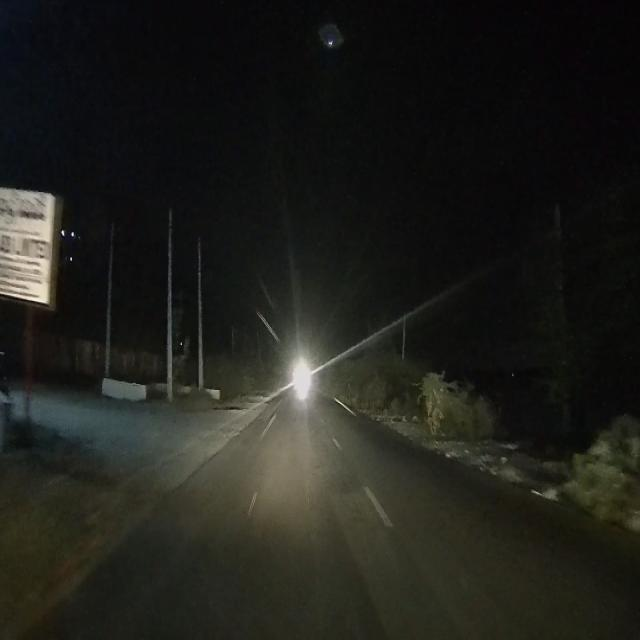electric pole ahead at: (156, 199, 194, 408)
